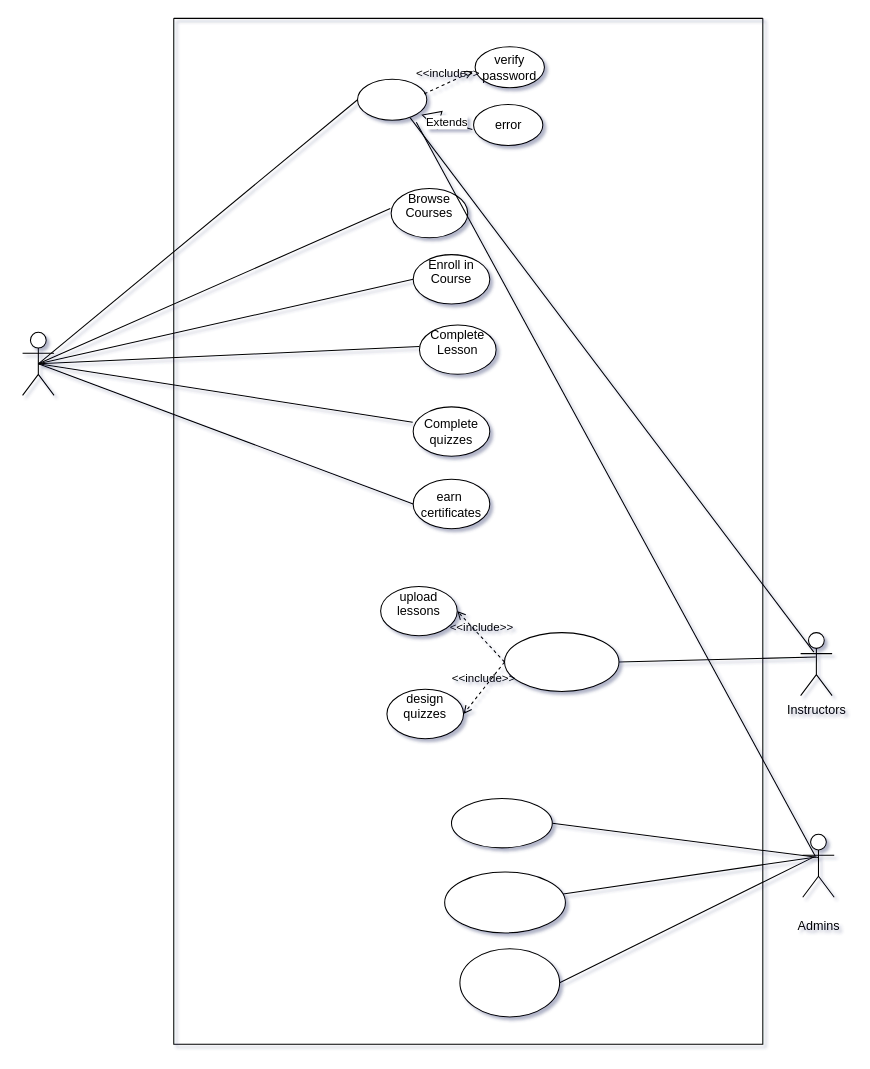
The diagram is 870 pixels wide and 1069 high, and some of its shapes have lost their labels. The shapes that lost their labels are listed below. From the top down, each one's box as (x1, y1, x2, y2) in pixels, then its label:
(356, 78, 427, 120): login
(22, 331, 54, 395): student
(503, 632, 619, 691): Create/Manage Course
(450, 797, 552, 848): manage users
(444, 871, 565, 933): approve or remove courses
(459, 948, 560, 1017): monitor platform analytics.
